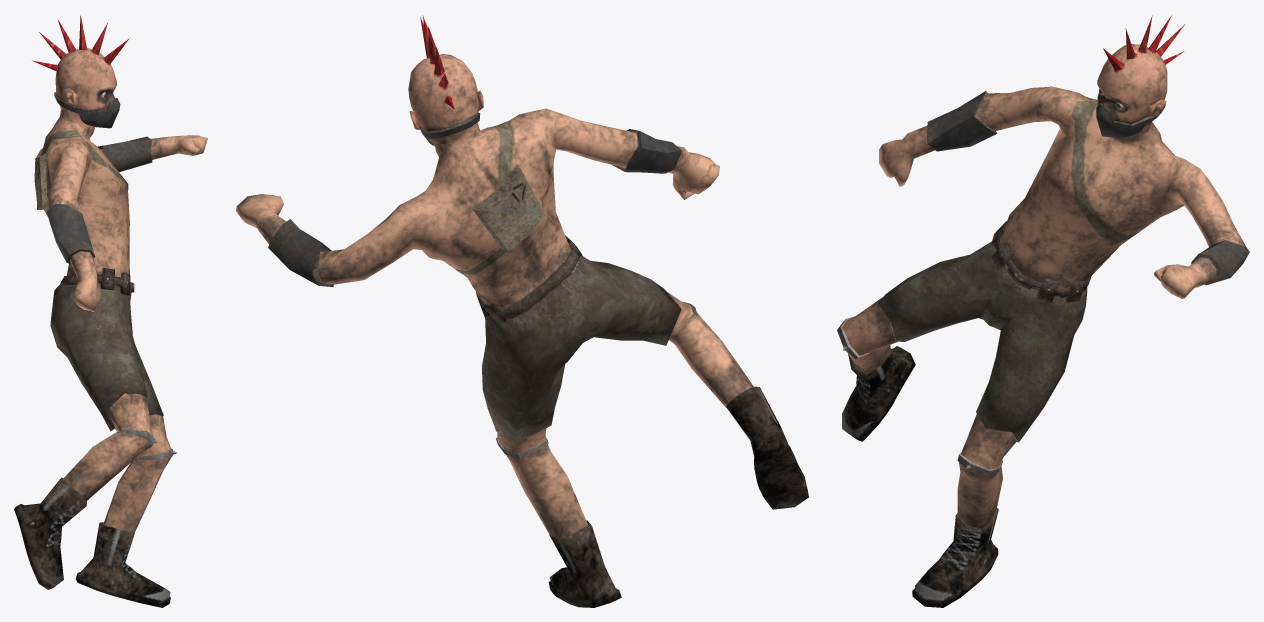
Rendered from Anim_ataque_f1_npc2.0017.obj.
3 views of the same model, side by side, from view 1: azimuth 30°, elevation 25°; view 2: azimuth 150°, elevation 25°; view 3: azimuth 270°, elevation 25° (orthographic). The views are drawn at different scales.
Parts seen in each view (by area): view 1: polySurface1; view 2: polySurface1; view 3: polySurface1.
Boxes of the visible parts, x1,y1,x2,y2 form: polySurface1: (14,15,207,607); polySurface1: (236,15,808,607); polySurface1: (837,15,1249,607).
Bounding box in the file's own units: 6.11 × 9.51 × 5.96.
